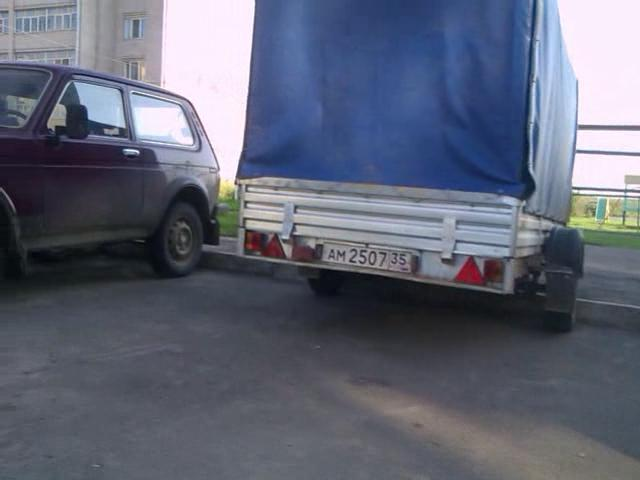car license plate: (320, 238, 420, 280)
